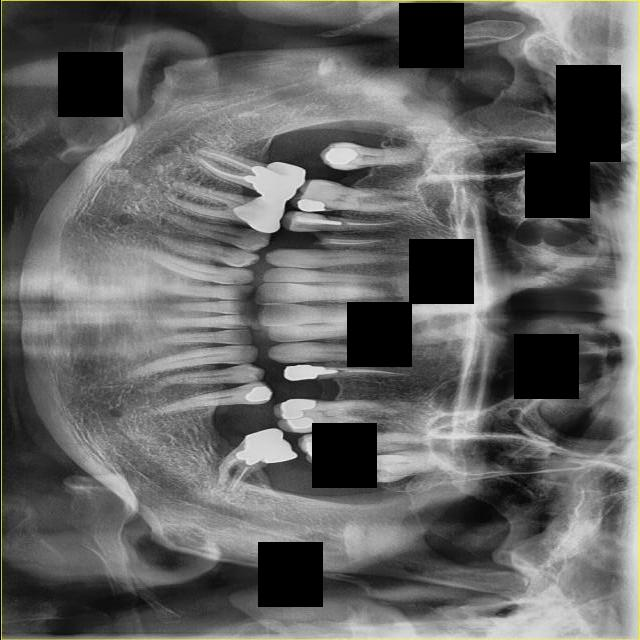71: (295, 214, 342, 228), (319, 369, 340, 375)
74: (193, 157, 245, 184), (199, 146, 252, 171), (214, 456, 237, 481), (229, 465, 250, 489), (328, 238, 387, 245), (338, 369, 403, 374), (346, 222, 395, 226)
NucleOSS Implant: (232, 426, 296, 466), (240, 162, 287, 200), (302, 439, 338, 465), (281, 363, 326, 381), (280, 398, 317, 419), (324, 147, 358, 165), (245, 385, 271, 403), (296, 199, 325, 213), (286, 416, 314, 430)
Sterngold Implant: (310, 231, 331, 252), (325, 206, 340, 211)
Straumann Implant: (282, 207, 331, 228)
Zimmer Implant: (254, 154, 309, 212), (230, 189, 285, 235)
